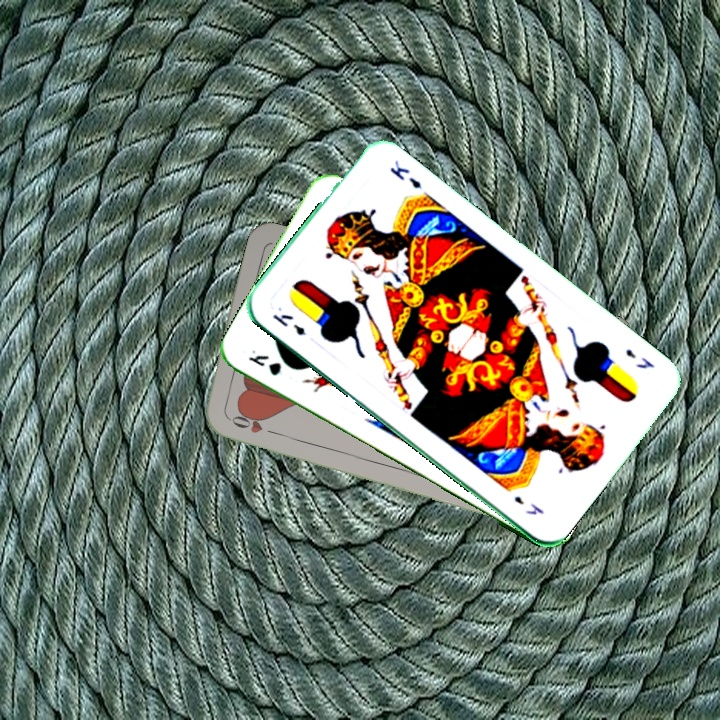EK: (269, 310, 308, 339), (621, 344, 657, 372)
GK: (244, 345, 286, 379)
HO: (224, 412, 282, 438)
